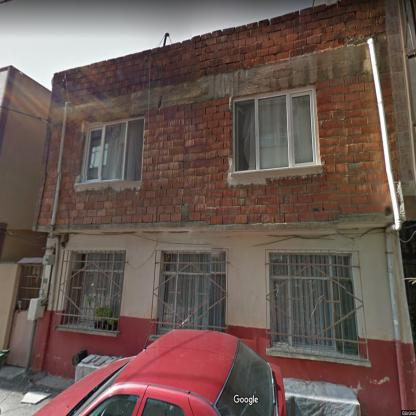door: (5, 265, 42, 366)
window: (270, 254, 358, 356), (234, 85, 320, 173), (159, 250, 225, 332), (62, 250, 123, 326), (80, 118, 144, 182)
